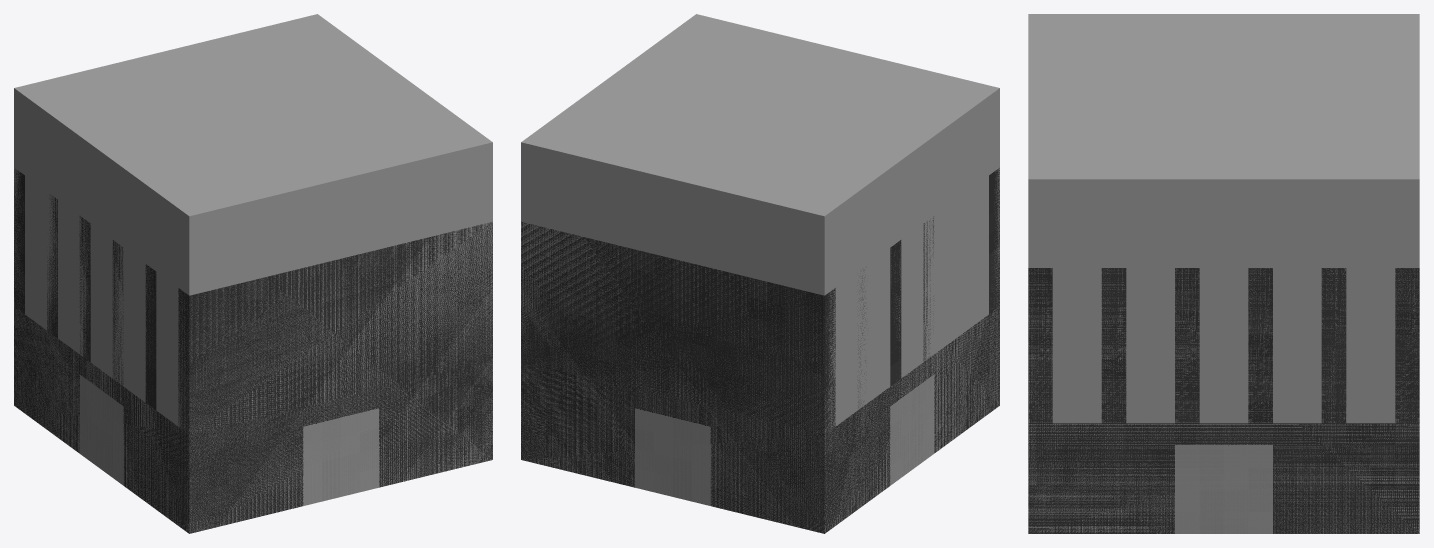
Rendered from passivethermaldissipatora.obj.
3 renders of one model, left to right at view 1: azimuth 30°, elevation 25°; view 2: azimuth 150°, elevation 25°; view 3: azimuth 270°, elevation 25°, orthographic. The views are drawn at different scales.
Parts seen in each view (by area): view 1: Minecraft_Block_Cube, main; view 2: Minecraft_Block_Cube, main; view 3: Minecraft_Block_Cube, main.
Boxes of the visible parts, <box> form: Minecraft_Block_Cube: <box>14,14,492,533</box>; main: <box>14,169,492,533</box>; Minecraft_Block_Cube: <box>521,14,999,532</box>; main: <box>521,168,999,533</box>; Minecraft_Block_Cube: <box>1028,14,1419,533</box>; main: <box>1028,268,1419,533</box>.
Size of the model in its own units: 1 by 1 by 1.
2 materials, 1 textured.
